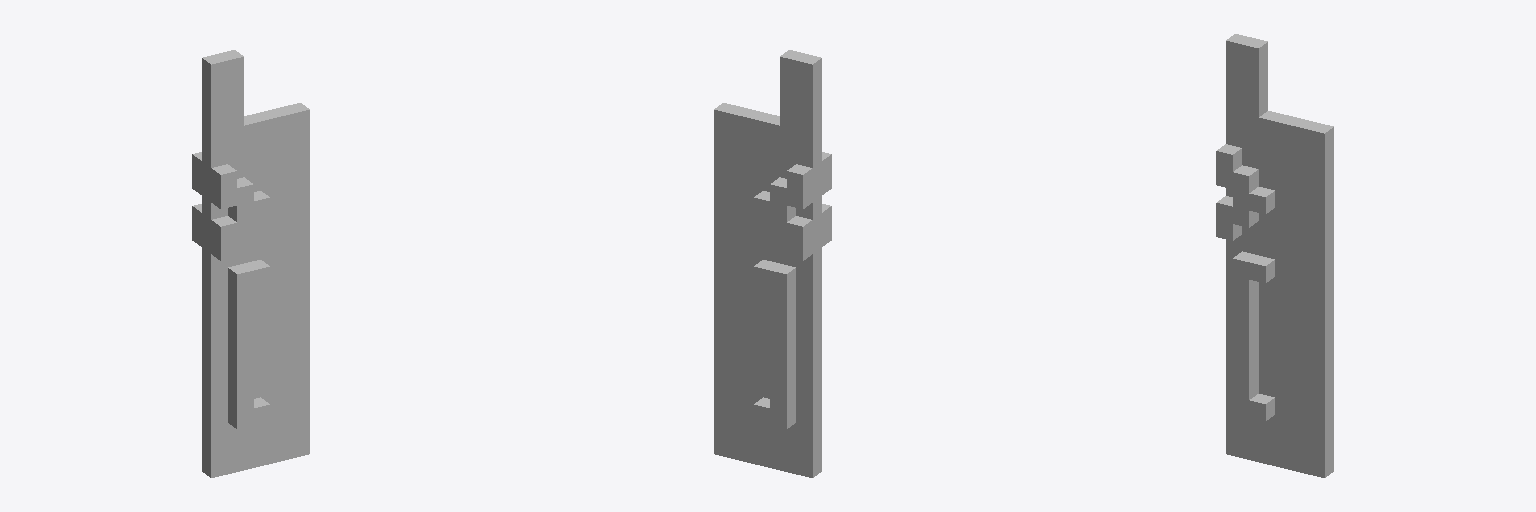
The model's file is 02_door_4X.obj.
The picture shows the model from 3 angles: view 1: azimuth 30°, elevation 25°; view 2: azimuth 150°, elevation 25°; view 3: azimuth 330°, elevation 25°; orthographic projection.
Size of the model in its own units: 6 by 24 by 3.